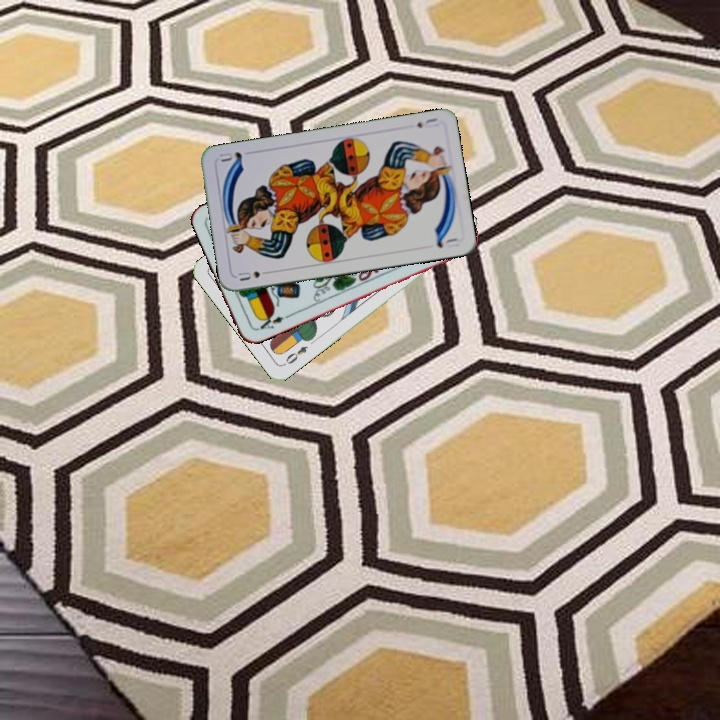EA: (252, 310, 291, 333)
EO: (279, 342, 310, 368)
SU: (234, 267, 274, 283), (412, 114, 441, 131)
